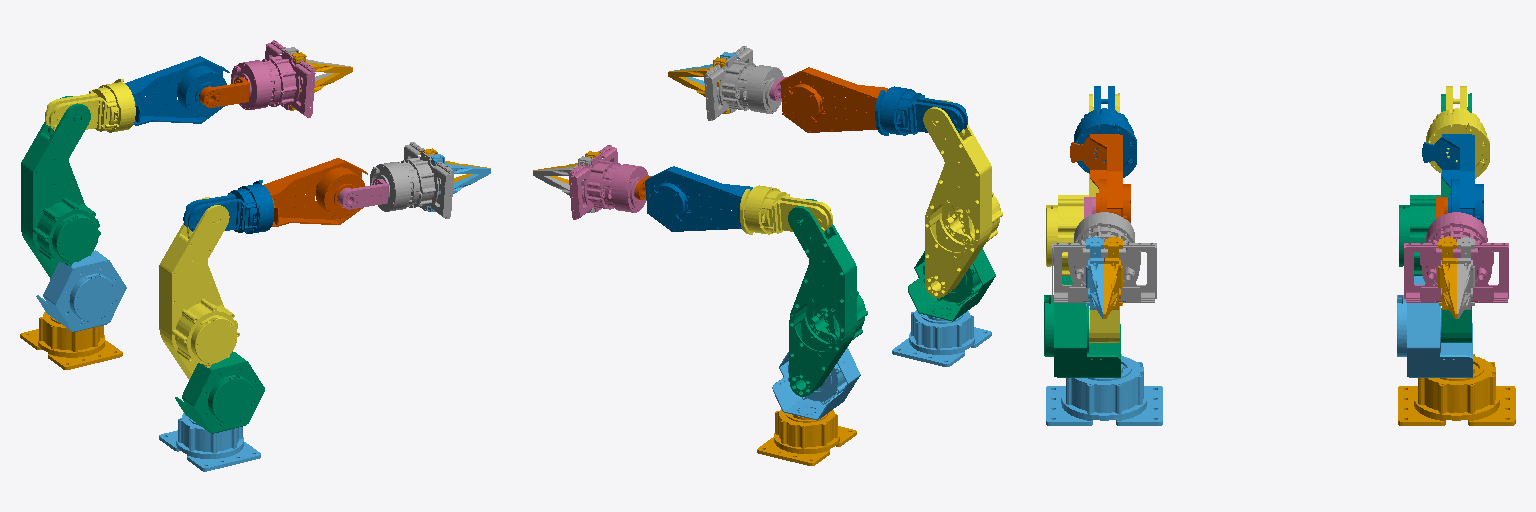
robot.urdf — dual_mevion:
<?xml version="1.0" ?>
<!-- =================================================================================== -->
<!-- |    This document was autogenerated by xacro from /home/leus/mevion_ws/src/mevion/src/mevion/../../models/dual_mevion.urdf.xacro | -->
<!-- |    EDITING THIS FILE BY HAND IS NOT RECOMMENDED                                 | -->
<!-- =================================================================================== -->
<robot name="dual_mevion">
  <link name="RL_base_link">
    <inertial>
      <origin rpy="0.0 -0.0 0.0" xyz="4.48986707996124e-05 1.56759680411714e-05 0.0271570776976561"/>
      <mass value="1.15231569296786"/>
      <inertia ixx="0.00121639765481248" ixy="2.16045733589472e-06" ixz="1.27211558344771e-07" iyy="0.000930183088898648" iyz="7.71652399037108e-07" izz="0.00201898237273294"/>
    </inertial>
    <visual>
      <geometry>
        <mesh filename="package://mevion/models/meshes/base_link.STL"/>
      </geometry>
      <origin rpy="0.0 -0.0 0.0" xyz="0.0 0.0 0.0"/>
    </visual>
    <collision>
      <geometry>
        <mesh filename="package://mevion/models/meshes/base_link.STL"/>
      </geometry>
      <origin rpy="0.0 -0.0 0.0" xyz="0.0 0.0 0.0"/>
    </collision>
  </link>
  <link name="RL_shoulder_link">
    <inertial>
      <origin rpy="0.0 -0.0 0.0" xyz="1.32391512477042e-05 -0.0409446319565604 0.0539290225644971"/>
      <mass value="1.3644125395524"/>
      <inertia ixx="0.00124826945079962" ixy="7.71652399036369e-07" ixz="1.40973960628106e-06" iyy="0.00225976686875303" iyz="0.000129017482212155" izz="0.00163541860832696"/>
    </inertial>
    <visual>
      <geometry>
        <mesh filename="package://mevion/models/meshes/shoulder_link.STL"/>
      </geometry>
      <origin rpy="0.0 -0.0 0.0" xyz="0.0 0.0 0.0"/>
    </visual>
    <collision>
      <geometry>
        <mesh filename="package://mevion/models/meshes/shoulder_link.STL"/>
      </geometry>
      <origin rpy="0.0 -0.0 0.0" xyz="0.0 0.0 0.0"/>
    </collision>
  </link>
  <link name="RL_upper_link">
    <inertial>
      <origin rpy="0.0 -0.0 0.0" xyz="-0.0277618483264825 -0.0012686382672129 0.125214854323048"/>
      <mass value="1.80094445183212"/>
      <inertia ixx="0.00803749436721916" ixy="1.14800261763492e-07" ixz="0.000406578011332191" iyy="0.00930308292156413" iyz="-1.22606639516895e-06" izz="0.00145022373082752"/>
    </inertial>
    <visual>
      <geometry>
        <mesh filename="package://mevion/models/meshes/upper_link.STL"/>
      </geometry>
      <origin rpy="0.0 -0.0 0.0" xyz="0.0 0.0 0.0"/>
    </visual>
    <collision>
      <geometry>
        <mesh filename="package://mevion/models/meshes/upper_link.STL"/>
      </geometry>
      <origin rpy="0.0 -0.0 0.0" xyz="0.0 0.0 0.0"/>
    </collision>
  </link>
  <link name="RL_lower1_link">
    <inertial>
      <origin rpy="0.0 -0.0 0.0" xyz="0.000216390735208159 0.00085993851271662 0.0518105566861265"/>
      <mass value="0.759808237991183"/>
      <inertia ixx="0.000385157367730232" ixy="2.12381732851174e-07" ixz="-6.77307827524159e-08" iyy="0.000439974465703987" iyz="1.32894830907232e-06" izz="0.000468001343308467"/>
    </inertial>
    <visual>
      <geometry>
        <mesh filename="package://mevion/models/meshes/lower1_link.STL"/>
      </geometry>
      <origin rpy="0.0 -0.0 0.0" xyz="0.0 0.0 0.0"/>
    </visual>
    <collision>
      <geometry>
        <mesh filename="package://mevion/models/meshes/lower1_link.STL"/>
      </geometry>
      <origin rpy="0.0 -0.0 0.0" xyz="0.0 0.0 0.0"/>
    </collision>
  </link>
  <link name="RL_lower2_link">
    <inertial>
      <origin rpy="0.0 -0.0 0.0" xyz="-0.000278339581275338 0.0123874376852598 0.124865641413663"/>
      <mass value="0.583365919550584"/>
      <inertia ixx="0.000771948673443437" ixy="-7.69274924911199e-08" ixz="2.53703947046426e-07" iyy="0.00106516226878555" iyz="-4.63320416929162e-05" izz="0.000375373330701929"/>
    </inertial>
    <visual>
      <geometry>
        <mesh filename="package://mevion/models/meshes/lower2_link.STL"/>
      </geometry>
      <origin rpy="0.0 -0.0 0.0" xyz="0.0 0.0 0.0"/>
    </visual>
    <collision>
      <geometry>
        <mesh filename="package://mevion/models/meshes/lower2_link.STL"/>
      </geometry>
      <origin rpy="0.0 -0.0 0.0" xyz="0.0 0.0 0.0"/>
    </collision>
  </link>
  <link name="RL_wrist_link">
    <inertial>
      <origin rpy="0.0 -0.0 0.0" xyz="-1.96082330388783e-16 -0.0041231568611668 0.0340020937943818"/>
      <mass value="0.131493017924709"/>
      <inertia ixx="7.37027067414564e-05" ixy="1.58073820480577e-20" ixz="2.25784009070445e-19" iyy="7.41887028724778e-05" iyz="-7.28567584499028e-06" izz="1.53903100360496e-05"/>
    </inertial>
    <visual>
      <geometry>
        <mesh filename="package://mevion/models/meshes/wrist_link.STL"/>
      </geometry>
      <origin rpy="0.0 -0.0 0.0" xyz="0.0 0.0 0.0"/>
    </visual>
    <collision>
      <geometry>
        <mesh filename="package://mevion/models/meshes/wrist_link.STL"/>
      </geometry>
      <origin rpy="0.0 -0.0 0.0" xyz="0.0 0.0 0.0"/>
    </collision>
  </link>
  <link name="RL_hand_link">
    <inertial>
      <origin rpy="0.0 -0.0 0.0" xyz="0.000159003479216479 -0.000163984402889978 0.0525704717537405"/>
      <mass value="0.978434240360148"/>
      <inertia ixx="0.000520820242382646" ixy="-1.76299593288957e-06" ixz="8.17043569888491e-08" iyy="0.000400595546523087" iyz="1.65229042549845e-06" izz="0.000858089167834087"/>
    </inertial>
    <visual>
      <geometry>
        <mesh filename="package://mevion/models/meshes/hand_link.STL"/>
      </geometry>
      <origin rpy="0.0 -0.0 0.0" xyz="0.0 0.0 0.0"/>
    </visual>
    <collision>
      <geometry>
        <mesh filename="package://mevion/models/meshes/hand_link.STL"/>
      </geometry>
      <origin rpy="0.0 -0.0 0.0" xyz="0.0 0.0 0.0"/>
    </collision>
  </link>
  <link name="RL_gripper_link_left">
    <inertial>
      <origin rpy="0.0 -0.0 0.0" xyz="-1.32198004197986e-08 0.0115784140352716 0.00240127722711736"/>
      <mass value="0.122787167555386"/>
      <inertia ixx="2.85978247230261e-05" ixy="3.08272354522243e-12" ixz="-9.47873944077953e-12" iyy="6.781592338682e-05" iyz="1.90382486267302e-06" izz="4.61876729265133e-05"/>
    </inertial>
    <visual>
      <geometry>
        <mesh filename="package://mevion/models/meshes/gripper_link_left.STL"/>
      </geometry>
      <origin rpy="0.0 -0.0 0.0" xyz="0.0 0.0 0.0"/>
    </visual>
    <collision>
      <geometry>
        <mesh filename="package://mevion/models/meshes/gripper_link_left.STL"/>
      </geometry>
      <origin rpy="0.0 -0.0 0.0" xyz="0.0 0.0 0.0"/>
    </collision>
  </link>
  <link name="RL_gripper_link_right">
    <inertial>
      <origin rpy="0.0 -0.0 0.0" xyz="1.32198536631412e-08 -0.0115784140352595 0.00240127722700467"/>
      <mass value="0.12278716755486"/>
      <inertia ixx="2.85978247229801e-05" ixy="3.08277439819197e-12" ixz="9.47875029139586e-12" iyy="6.78159233867156e-05" iyz="-1.90382486266821e-06" izz="4.61876729263949e-05"/>
    </inertial>
    <visual>
      <geometry>
        <mesh filename="package://mevion/models/meshes/gripper_link_right.STL"/>
      </geometry>
      <origin rpy="0.0 -0.0 0.0" xyz="0.0 0.0 0.0"/>
    </visual>
    <collision>
      <geometry>
        <mesh filename="package://mevion/models/meshes/gripper_link_right.STL"/>
      </geometry>
      <origin rpy="0.0 -0.0 0.0" xyz="0.0 0.0 0.0"/>
    </collision>
  </link>
  <joint name="RL_shoulder_yaw" type="revolute">
    <parent link="RL_base_link"/>
    <child link="RL_shoulder_link"/>
    <axis xyz="0. 0. 1."/>
    <limit effort="60" lower="-1.58" upper="1.58" velocity="18.85"/>
    <origin rpy="0.0 -0.0 0.0" xyz="0.0 0.0 0.058"/>
  </joint>
  <joint name="RL_shoulder_pitch" type="revolute">
    <parent link="RL_shoulder_link"/>
    <child link="RL_upper_link"/>
    <axis xyz=" 0. 1.  0."/>
    <limit effort="60" lower="-0.91" upper="1.45" velocity="18.85"/>
    <!---(-52.45, 83.25) -->
    <origin rpy="0.0 -0.0 0.0" xyz="0.0 -0.02 0.0580000000000024"/>
  </joint>
  <joint name="RL_elbow_pitch" type="revolute">
    <parent link="RL_upper_link"/>
    <child link="RL_lower1_link"/>
    <axis xyz=" 0. 1.  0."/>
    <limit effort="60" lower="0.61" upper="2.69" velocity="18.85"/>
    <!---(35, 154.15) -->
    <origin rpy="0.0 -0.0 0.0" xyz="0.0 0.02 0.3"/>
  </joint>
  <joint name="RL_elbow_yaw" type="revolute">
    <parent link="RL_lower1_link"/>
    <child link="RL_lower2_link"/>
    <axis xyz="0. 0. 1."/>
    <limit effort="17" lower="-1.58" upper="1.58" velocity="37.5"/>
    <origin rpy="0.0 -0.0 0.0" xyz="0.0 0.0 0.102000000000004"/>
  </joint>
  <joint name="RL_wrist_pitch" type="revolute">
    <parent link="RL_lower2_link"/>
    <child link="RL_wrist_link"/>
    <axis xyz="0. 1. 0."/>
    <limit effort="17" lower="-2.06" upper="2.06" velocity="37.5"/>
    <!---(-118.04, 118.04) -->
    <origin rpy="0.0 -0.0 0.0" xyz="0.0 -0.011000000000004 0.148"/>
  </joint>
  <joint name="RL_wrist_yaw" type="revolute">
    <parent link="RL_wrist_link"/>
    <child link="RL_hand_link"/>
    <axis xyz=" 0.  0. 1."/>
    <limit effort="17" lower="-1.58" upper="1.58" velocity="37.5"/>
    <origin rpy="0.0 -0.0 0.0" xyz="0.0 0.0110000000000001 0.072"/>
  </joint>
  <joint name="RL_gripper_prismatic_left" type="prismatic">
    <parent link="RL_hand_link"/>
    <child link="RL_gripper_link_left"/>
    <axis xyz="0. 1. 0."/>
    <limit effort="12" lower="0.0" upper="0.0415" velocity="25.0"/>
    <origin rpy="0.0 -0.0 0.0" xyz="0.0 0.0 0.105500000000004"/>
  </joint>
  <joint name="RL_gripper_prismatic_right" type="prismatic">
    <mimic joint="RL_gripper_prismatic_left" multiplier="1.0" offset="0.0"/>
    <parent link="RL_hand_link"/>
    <child link="RL_gripper_link_right"/>
    <axis xyz=" 0. -1.  0."/>
    <limit effort="12" lower="0.0" upper="0.0415" velocity="25.0"/>
    <origin rpy="0.0 -0.0 0.0" xyz="0.0 0.0 0.105500000000004"/>
  </joint>
  <link name="RF_base_link">
    <inertial>
      <origin rpy="0.0 -0.0 0.0" xyz="4.48986707996124e-05 1.56759680411714e-05 0.0271570776976561"/>
      <mass value="1.15231569296786"/>
      <inertia ixx="0.00121639765481248" ixy="2.16045733589472e-06" ixz="1.27211558344771e-07" iyy="0.000930183088898648" iyz="7.71652399037108e-07" izz="0.00201898237273294"/>
    </inertial>
    <visual>
      <geometry>
        <mesh filename="package://mevion/models/meshes/base_link.STL"/>
      </geometry>
      <origin rpy="0.0 -0.0 0.0" xyz="0.0 0.0 0.0"/>
    </visual>
    <collision>
      <geometry>
        <mesh filename="package://mevion/models/meshes/base_link.STL"/>
      </geometry>
      <origin rpy="0.0 -0.0 0.0" xyz="0.0 0.0 0.0"/>
    </collision>
  </link>
  <link name="RF_shoulder_link">
    <inertial>
      <origin rpy="0.0 -0.0 0.0" xyz="1.32391512477042e-05 -0.0409446319565604 0.0539290225644971"/>
      <mass value="1.3644125395524"/>
      <inertia ixx="0.00124826945079962" ixy="7.71652399036369e-07" ixz="1.40973960628106e-06" iyy="0.00225976686875303" iyz="0.000129017482212155" izz="0.00163541860832696"/>
    </inertial>
    <visual>
      <geometry>
        <mesh filename="package://mevion/models/meshes/shoulder_link.STL"/>
      </geometry>
      <origin rpy="0.0 -0.0 0.0" xyz="0.0 0.0 0.0"/>
    </visual>
    <collision>
      <geometry>
        <mesh filename="package://mevion/models/meshes/shoulder_link.STL"/>
      </geometry>
      <origin rpy="0.0 -0.0 0.0" xyz="0.0 0.0 0.0"/>
    </collision>
  </link>
  <link name="RF_upper_link">
    <inertial>
      <origin rpy="0.0 -0.0 0.0" xyz="-0.0277618483264825 -0.0012686382672129 0.125214854323048"/>
      <mass value="1.80094445183212"/>
      <inertia ixx="0.00803749436721916" ixy="1.14800261763492e-07" ixz="0.000406578011332191" iyy="0.00930308292156413" iyz="-1.22606639516895e-06" izz="0.00145022373082752"/>
    </inertial>
    <visual>
      <geometry>
        <mesh filename="package://mevion/models/meshes/upper_link.STL"/>
      </geometry>
      <origin rpy="0.0 -0.0 0.0" xyz="0.0 0.0 0.0"/>
    </visual>
    <collision>
      <geometry>
        <mesh filename="package://mevion/models/meshes/upper_link.STL"/>
      </geometry>
      <origin rpy="0.0 -0.0 0.0" xyz="0.0 0.0 0.0"/>
    </collision>
  </link>
  <link name="RF_lower1_link">
    <inertial>
      <origin rpy="0.0 -0.0 0.0" xyz="0.000216390735208159 0.00085993851271662 0.0518105566861265"/>
      <mass value="0.759808237991183"/>
      <inertia ixx="0.000385157367730232" ixy="2.12381732851174e-07" ixz="-6.77307827524159e-08" iyy="0.000439974465703987" iyz="1.32894830907232e-06" izz="0.000468001343308467"/>
    </inertial>
    <visual>
      <geometry>
        <mesh filename="package://mevion/models/meshes/lower1_link.STL"/>
      </geometry>
      <origin rpy="0.0 -0.0 0.0" xyz="0.0 0.0 0.0"/>
    </visual>
    <collision>
      <geometry>
        <mesh filename="package://mevion/models/meshes/lower1_link.STL"/>
      </geometry>
      <origin rpy="0.0 -0.0 0.0" xyz="0.0 0.0 0.0"/>
    </collision>
  </link>
  <link name="RF_lower2_link">
    <inertial>
      <origin rpy="0.0 -0.0 0.0" xyz="-0.000278339581275338 0.0123874376852598 0.124865641413663"/>
      <mass value="0.583365919550584"/>
      <inertia ixx="0.000771948673443437" ixy="-7.69274924911199e-08" ixz="2.53703947046426e-07" iyy="0.00106516226878555" iyz="-4.63320416929162e-05" izz="0.000375373330701929"/>
    </inertial>
    <visual>
      <geometry>
        <mesh filename="package://mevion/models/meshes/lower2_link.STL"/>
      </geometry>
      <origin rpy="0.0 -0.0 0.0" xyz="0.0 0.0 0.0"/>
    </visual>
    <collision>
      <geometry>
        <mesh filename="package://mevion/models/meshes/lower2_link.STL"/>
      </geometry>
      <origin rpy="0.0 -0.0 0.0" xyz="0.0 0.0 0.0"/>
    </collision>
  </link>
  <link name="RF_wrist_link">
    <inertial>
      <origin rpy="0.0 -0.0 0.0" xyz="-1.96082330388783e-16 -0.0041231568611668 0.0340020937943818"/>
      <mass value="0.131493017924709"/>
      <inertia ixx="7.37027067414564e-05" ixy="1.58073820480577e-20" ixz="2.25784009070445e-19" iyy="7.41887028724778e-05" iyz="-7.28567584499028e-06" izz="1.53903100360496e-05"/>
    </inertial>
    <visual>
      <geometry>
        <mesh filename="package://mevion/models/meshes/wrist_link.STL"/>
      </geometry>
      <origin rpy="0.0 -0.0 0.0" xyz="0.0 0.0 0.0"/>
    </visual>
    <collision>
      <geometry>
        <mesh filename="package://mevion/models/meshes/wrist_link.STL"/>
      </geometry>
      <origin rpy="0.0 -0.0 0.0" xyz="0.0 0.0 0.0"/>
    </collision>
  </link>
  <link name="RF_hand_link">
    <inertial>
      <origin rpy="0.0 -0.0 0.0" xyz="0.000159003479216479 -0.000163984402889978 0.0525704717537405"/>
      <mass value="0.978434240360148"/>
      <inertia ixx="0.000520820242382646" ixy="-1.76299593288957e-06" ixz="8.17043569888491e-08" iyy="0.000400595546523087" iyz="1.65229042549845e-06" izz="0.000858089167834087"/>
    </inertial>
    <visual>
      <geometry>
        <mesh filename="package://mevion/models/meshes/hand_link.STL"/>
      </geometry>
      <origin rpy="0.0 -0.0 0.0" xyz="0.0 0.0 0.0"/>
    </visual>
    <collision>
      <geometry>
        <mesh filename="package://mevion/models/meshes/hand_link.STL"/>
      </geometry>
      <origin rpy="0.0 -0.0 0.0" xyz="0.0 0.0 0.0"/>
    </collision>
  </link>
  <link name="RF_gripper_link_left">
    <inertial>
      <origin rpy="0.0 -0.0 0.0" xyz="-1.32198004197986e-08 0.0115784140352716 0.00240127722711736"/>
      <mass value="0.122787167555386"/>
      <inertia ixx="2.85978247230261e-05" ixy="3.08272354522243e-12" ixz="-9.47873944077953e-12" iyy="6.781592338682e-05" iyz="1.90382486267302e-06" izz="4.61876729265133e-05"/>
    </inertial>
    <visual>
      <geometry>
        <mesh filename="package://mevion/models/meshes/gripper_link_left.STL"/>
      </geometry>
      <origin rpy="0.0 -0.0 0.0" xyz="0.0 0.0 0.0"/>
    </visual>
    <collision>
      <geometry>
        <mesh filename="package://mevion/models/meshes/gripper_link_left.STL"/>
      </geometry>
      <origin rpy="0.0 -0.0 0.0" xyz="0.0 0.0 0.0"/>
    </collision>
  </link>
  <link name="RF_gripper_link_right">
    <inertial>
      <origin rpy="0.0 -0.0 0.0" xyz="1.32198536631412e-08 -0.0115784140352595 0.00240127722700467"/>
      <mass value="0.12278716755486"/>
      <inertia ixx="2.85978247229801e-05" ixy="3.08277439819197e-12" ixz="9.47875029139586e-12" iyy="6.78159233867156e-05" iyz="-1.90382486266821e-06" izz="4.61876729263949e-05"/>
    </inertial>
    <visual>
      <geometry>
        <mesh filename="package://mevion/models/meshes/gripper_link_right.STL"/>
      </geometry>
      <origin rpy="0.0 -0.0 0.0" xyz="0.0 0.0 0.0"/>
    </visual>
    <collision>
      <geometry>
        <mesh filename="package://mevion/models/meshes/gripper_link_right.STL"/>
      </geometry>
      <origin rpy="0.0 -0.0 0.0" xyz="0.0 0.0 0.0"/>
    </collision>
  </link>
  <joint name="RF_shoulder_yaw" type="revolute">
    <parent link="RF_base_link"/>
    <child link="RF_shoulder_link"/>
    <axis xyz="0. 0. 1."/>
    <limit effort="60" lower="-1.58" upper="1.58" velocity="18.85"/>
    <origin rpy="0.0 -0.0 0.0" xyz="0.0 0.0 0.058"/>
  </joint>
  <joint name="RF_shoulder_pitch" type="revolute">
    <parent link="RF_shoulder_link"/>
    <child link="RF_upper_link"/>
    <axis xyz=" 0. 1.  0."/>
    <limit effort="60" lower="-0.91" upper="1.45" velocity="18.85"/>
    <!---(-52.45, 83.25) -->
    <origin rpy="0.0 -0.0 0.0" xyz="0.0 -0.02 0.0580000000000024"/>
  </joint>
  <joint name="RF_elbow_pitch" type="revolute">
    <parent link="RF_upper_link"/>
    <child link="RF_lower1_link"/>
    <axis xyz=" 0. 1.  0."/>
    <limit effort="60" lower="0.61" upper="2.69" velocity="18.85"/>
    <!---(35, 154.15) -->
    <origin rpy="0.0 -0.0 0.0" xyz="0.0 0.02 0.3"/>
  </joint>
  <joint name="RF_elbow_yaw" type="revolute">
    <parent link="RF_lower1_link"/>
    <child link="RF_lower2_link"/>
    <axis xyz="0. 0. 1."/>
    <limit effort="17" lower="-1.58" upper="1.58" velocity="37.5"/>
    <origin rpy="0.0 -0.0 0.0" xyz="0.0 0.0 0.102000000000004"/>
  </joint>
  <joint name="RF_wrist_pitch" type="revolute">
    <parent link="RF_lower2_link"/>
    <child link="RF_wrist_link"/>
    <axis xyz="0. 1. 0."/>
    <limit effort="17" lower="-2.06" upper="2.06" velocity="37.5"/>
    <!---(-118.04, 118.04) -->
    <origin rpy="0.0 -0.0 0.0" xyz="0.0 -0.011000000000004 0.148"/>
  </joint>
  <joint name="RF_wrist_yaw" type="revolute">
    <parent link="RF_wrist_link"/>
    <child link="RF_hand_link"/>
    <axis xyz=" 0.  0. 1."/>
    <limit effort="17" lower="-1.58" upper="1.58" velocity="37.5"/>
    <origin rpy="0.0 -0.0 0.0" xyz="0.0 0.0110000000000001 0.072"/>
  </joint>
  <joint name="RF_gripper_prismatic_left" type="prismatic">
    <parent link="RF_hand_link"/>
    <child link="RF_gripper_link_left"/>
    <axis xyz="0. 1. 0."/>
    <limit effort="12" lower="0.0" upper="0.0415" velocity="25.0"/>
    <origin rpy="0.0 -0.0 0.0" xyz="0.0 0.0 0.105500000000004"/>
  </joint>
  <joint name="RF_gripper_prismatic_right" type="prismatic">
    <mimic joint="RF_gripper_prismatic_left" multiplier="1.0" offset="0.0"/>
    <parent link="RF_hand_link"/>
    <child link="RF_gripper_link_right"/>
    <axis xyz=" 0. -1.  0."/>
    <limit effort="12" lower="0.0" upper="0.0415" velocity="25.0"/>
    <origin rpy="0.0 -0.0 0.0" xyz="0.0 0.0 0.105500000000004"/>
  </joint>
  <link name="world"/>
  <joint name="RL_world_joint" type="fixed">
    <parent link="world"/>
    <child link="RL_base_link"/>
    <origin rpy="0 0 0" xyz="0 0.225 0"/>
  </joint>
  <!-- 2つ目のロボットの位置 -->
  <joint name="RF_world_joint" type="fixed">
    <parent link="world"/>
    <child link="RF_base_link"/>
    <origin rpy="0 0 0" xyz="0 -0.225 0"/>
  </joint>
</robot>

--- Facts derived from the render (not from the file) ---
Views: 3 orthographic renders of the robot side by side, from view 1: azimuth 30°, elevation 25°; view 2: azimuth 150°, elevation 25°; view 3: azimuth 270°, elevation 25°.
Robot: dual_mevion — 19 links, 18 joints (12 revolute, 4 prismatic, 2 fixed); root link world; default pose: joints at zero except 2 at the middle of their limits (RL_elbow_pitch = 1.65, RF_elbow_pitch = 1.65).
Visible links, largest first — view 1: RF_upper_link, RL_upper_link, RF_shoulder_link, RL_shoulder_link, RL_lower2_link, RF_lower2_link, RL_hand_link, RF_hand_link, RL_base_link, RF_base_link, RL_lower1_link, RF_lower1_link (+4 smaller); view 2: RL_upper_link, RF_upper_link, RL_lower2_link, RF_lower2_link, RF_hand_link, RL_hand_link, RL_base_link, RF_base_link, RF_shoulder_link, RL_lower1_link, RL_shoulder_link, RF_lower1_link (+2 smaller); view 3: RL_base_link, RF_base_link, RL_hand_link, RF_hand_link, RF_shoulder_link, RL_shoulder_link, RL_lower2_link, RF_lower2_link, RF_upper_link, RL_upper_link, RL_lower1_link, RF_lower1_link (+4 smaller).
Link boxes in pixels (box(x1,y1,x2,y2)): RF_upper_link: box(159, 197, 239, 379); RL_upper_link: box(21, 96, 100, 278); RF_shoulder_link: box(175, 352, 264, 433); RL_shoulder_link: box(36, 250, 126, 331); RL_lower2_link: box(125, 56, 229, 125); RF_lower2_link: box(264, 158, 367, 226); RL_hand_link: box(231, 40, 315, 117); RF_hand_link: box(370, 142, 453, 218); RL_base_link: box(20, 311, 122, 369); RF_base_link: box(159, 413, 260, 471); RL_lower1_link: box(45, 79, 135, 132); RF_lower1_link: box(183, 180, 273, 233); RL_upper_link: box(788, 199, 867, 396); RF_upper_link: box(923, 100, 1002, 297); RL_lower2_link: box(645, 166, 752, 231); RF_lower2_link: box(780, 67, 887, 132); RF_hand_link: box(704, 46, 783, 120); RL_hand_link: box(569, 145, 648, 219); RL_base_link: box(757, 409, 856, 465); RF_base_link: box(892, 310, 991, 366); RF_shoulder_link: box(908, 248, 995, 321); RL_lower1_link: box(740, 185, 832, 234); RL_shoulder_link: box(772, 347, 860, 420); RF_lower1_link: box(875, 86, 967, 135); RL_base_link: box(1398, 354, 1515, 425); RF_base_link: box(1046, 354, 1162, 425); RL_hand_link: box(1404, 212, 1508, 302); RF_hand_link: box(1052, 212, 1156, 302); RF_shoulder_link: box(1044, 276, 1120, 377); RL_shoulder_link: box(1397, 276, 1472, 377); RL_lower2_link: box(1422, 134, 1483, 223); RF_lower2_link: box(1070, 134, 1130, 222); RF_upper_link: box(1046, 93, 1119, 342); RL_upper_link: box(1399, 93, 1471, 342); RL_lower1_link: box(1426, 86, 1489, 178); RF_lower1_link: box(1074, 86, 1136, 177).
Bounding box of the posed robot: 0.6102 × 0.6016 × 0.4516 m (x, y, z).
Meshes: 9 distinct files referenced, 18 mesh visuals loaded (9 binary STL).
